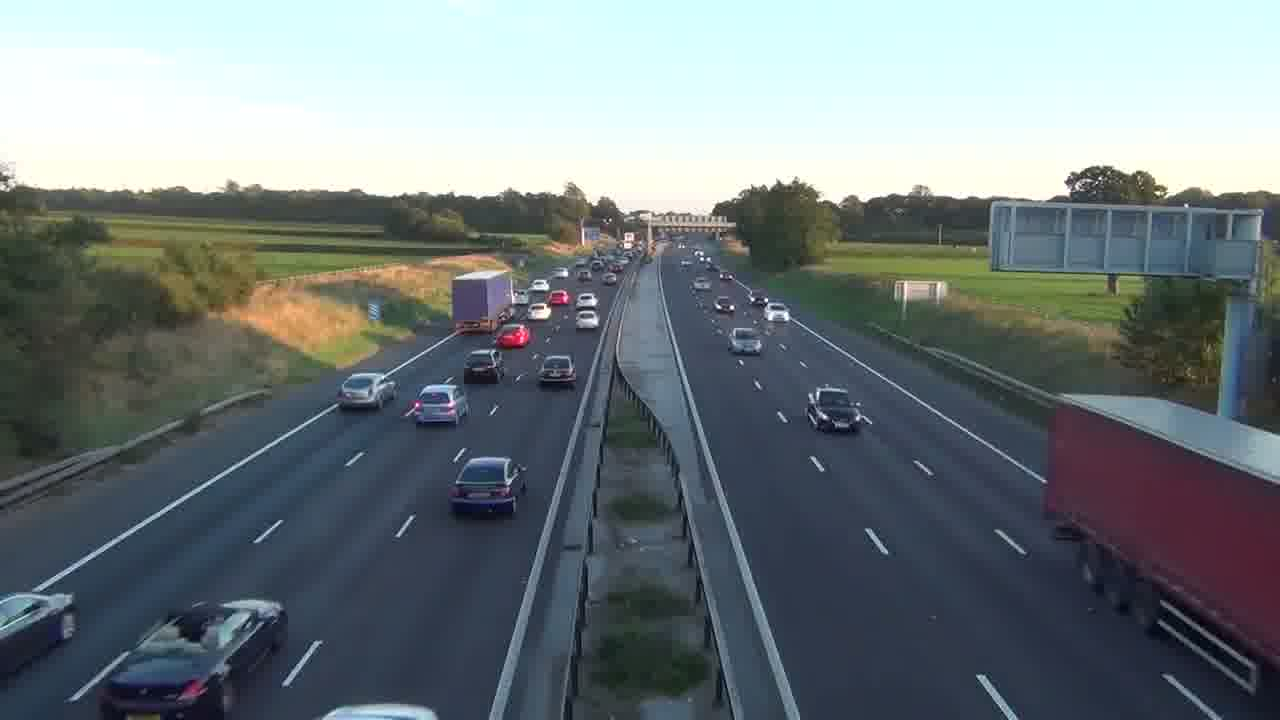car: (97, 596, 289, 717), (447, 455, 528, 518), (414, 382, 470, 426), (336, 373, 390, 411), (463, 348, 502, 384), (538, 354, 576, 388), (730, 327, 763, 354)
truck: (1040, 394, 1279, 679), (0, 590, 81, 676)
